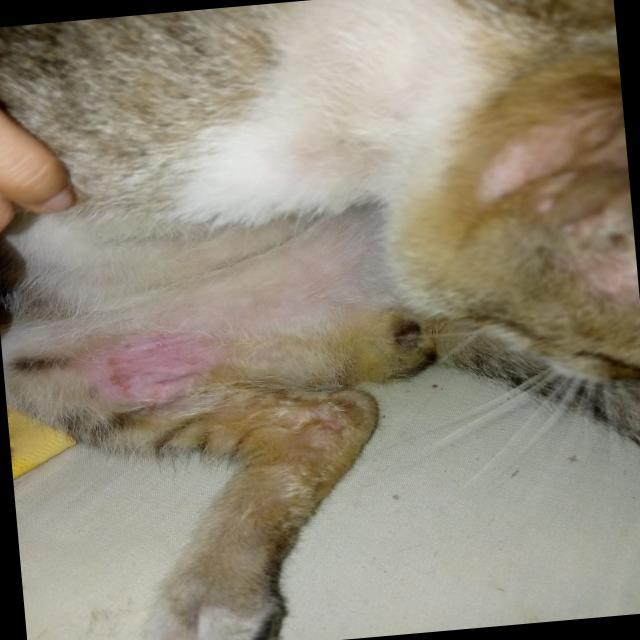Mange: (104, 334, 210, 405), (496, 134, 550, 174), (604, 260, 638, 294)
